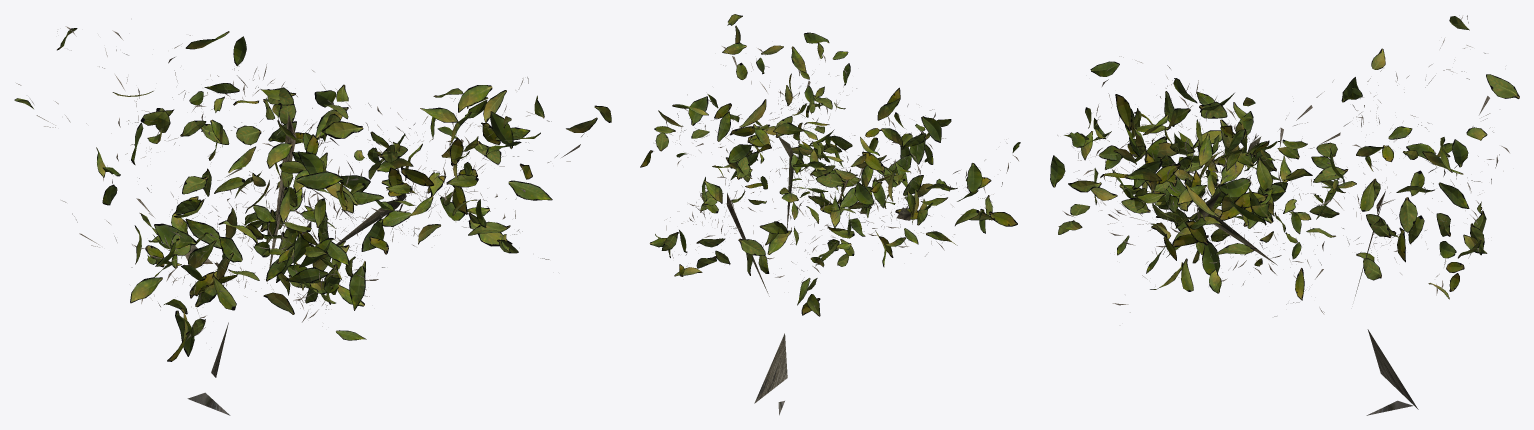
Rendered from tree.glb.
3 renders of one model, left to right at view 1: azimuth 30°, elevation 25°; view 2: azimuth 150°, elevation 25°; view 3: azimuth 270°, elevation 25°, orthographic. The views are drawn at different scales.
Parts seen in each view (by area): view 1: TreeWeb_leaves, TreeWeb_wood; view 2: TreeWeb_leaves, TreeWeb_wood; view 3: TreeWeb_leaves, TreeWeb_wood.
Boxes of the visible parts, x1=… form: TreeWeb_leaves: x1=14, y1=28, x2=611, y2=361; TreeWeb_wood: x1=16, y1=26, x2=590, y2=415; TreeWeb_leaves: x1=640, y1=14, x2=1020, y2=316; TreeWeb_wood: x1=655, y1=30, x2=1018, y2=415; TreeWeb_leaves: x1=1050, y1=16, x2=1519, y2=300; TreeWeb_wood: x1=1057, y1=15, x2=1509, y2=415.
Bounding box in the file's own units: 10.3 × 8.95 × 10.63.
3 materials, 3 textured.
